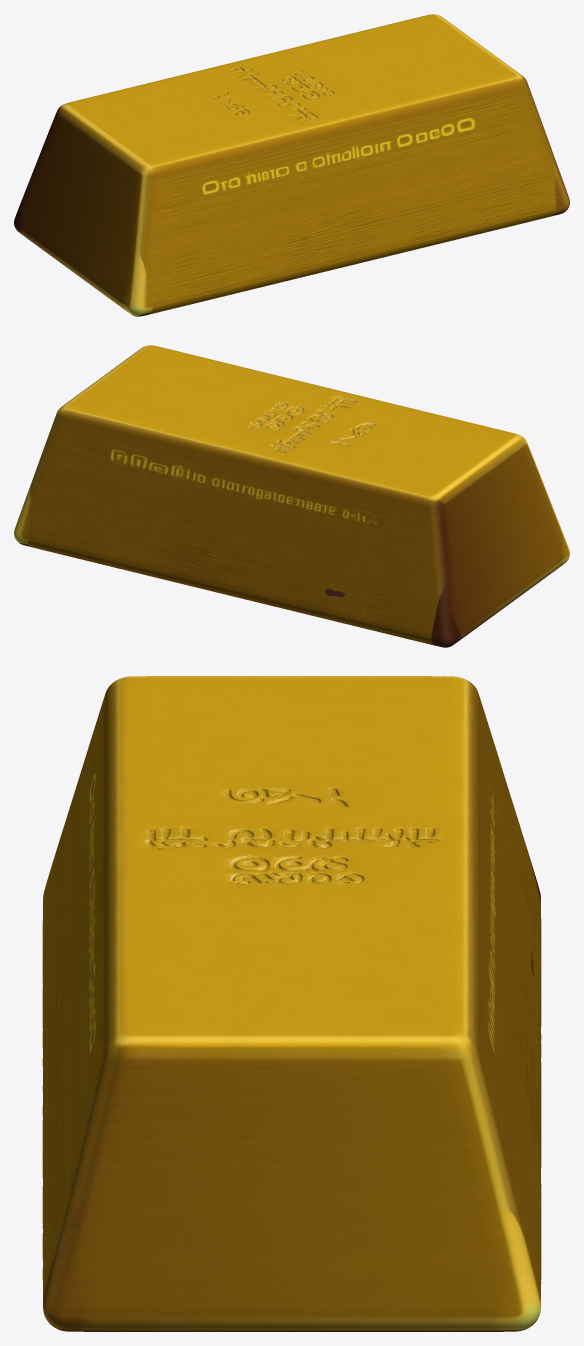
The model's file is gold-bar-pbr.glb.
3 renders of one model, top to bottom at view 1: azimuth 30°, elevation 25°; view 2: azimuth 150°, elevation 25°; view 3: azimuth 270°, elevation 25°, orthographic. The views are drawn at different scales.
Bounding box in the file's own units: 2 × 0.585 × 0.9797.
Materials: 1 (1 with a texture image).
